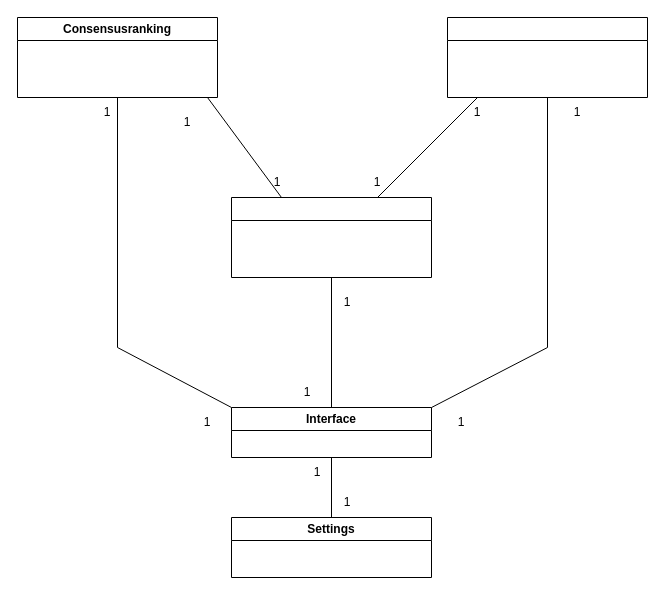
Image size: 665x595. Some labels were removed from this diagram. The centre of each missing label's shape, as x and y in pixels:
"Draft" goes at point 331,237.
"Roster" goes at point 547,57.
